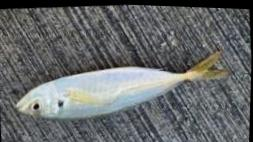fish: (15, 49, 230, 118)
